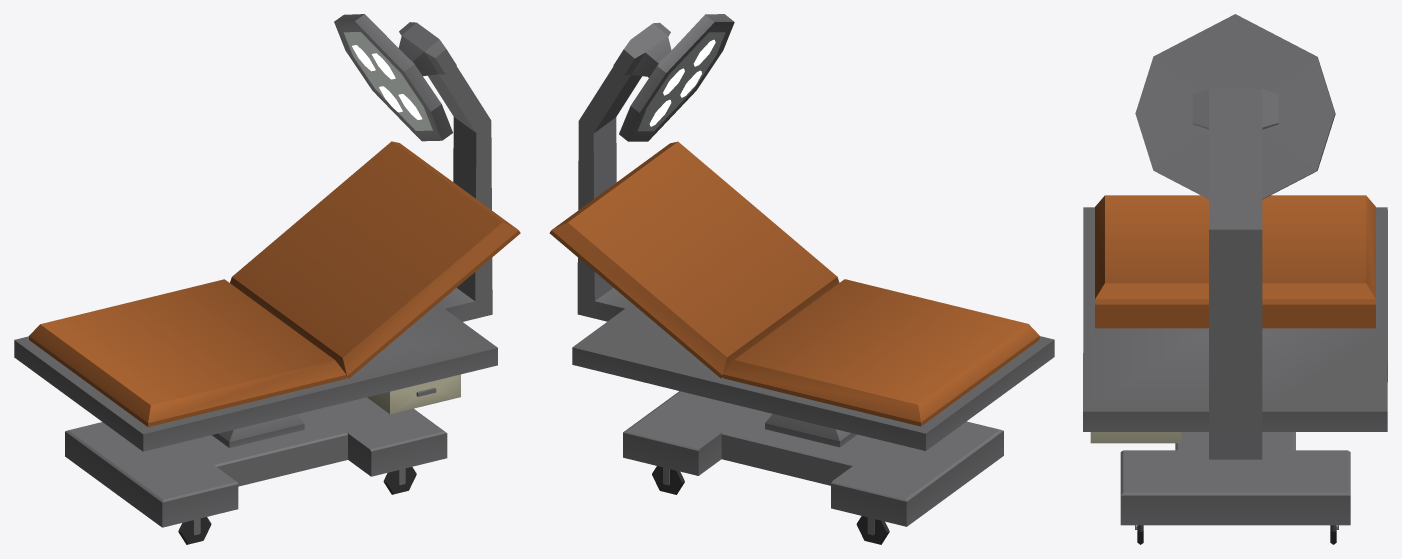
The model's file is Laboratorio.fbx_MesaCirurgia.fbx.
3 views of the same model, side by side, from view 1: azimuth 30°, elevation 25°; view 2: azimuth 150°, elevation 25°; view 3: azimuth 270°, elevation 25° (orthographic). The views are drawn at different scales.
Parts seen in each view (by area): view 1: MesaCirurgia, Luzes; view 2: MesaCirurgia, Luzes; view 3: MesaCirurgia.
Boxes of the visible parts, x1,y1,x2,y2 form: MesaCirurgia: (14, 14, 520, 544); Luzes: (352, 45, 422, 119); MesaCirurgia: (549, 14, 1054, 544); Luzes: (649, 39, 715, 126); MesaCirurgia: (1083, 14, 1387, 544).
Size of the model in its own units: 182 by 194 by 101.
